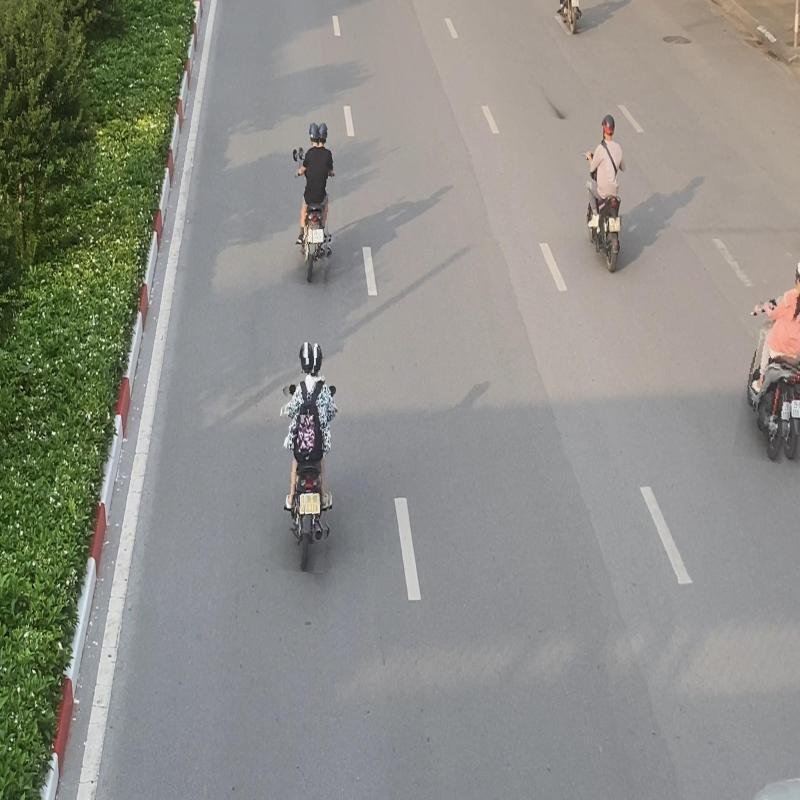helmet: (780, 252, 798, 284), (299, 342, 314, 374), (308, 120, 320, 146)
licenseplate: (304, 492, 320, 515), (312, 229, 324, 243)
motorcyclist: (273, 338, 339, 573), (741, 248, 800, 463), (287, 119, 339, 286)
